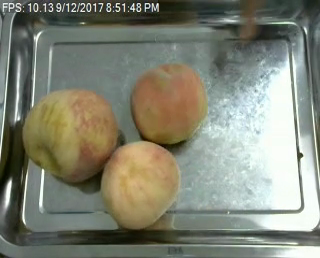Peach: (22, 89, 117, 180), (99, 140, 180, 230), (130, 61, 208, 145)
